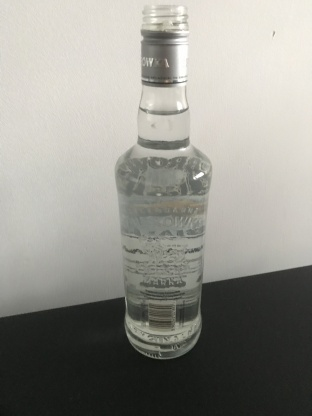nakretka: (139, 1, 190, 87)
